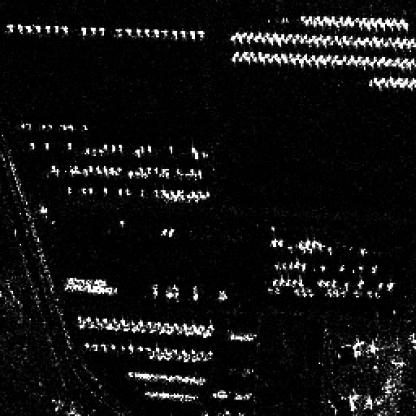airplane: (59, 122, 73, 130), (151, 283, 159, 297), (41, 120, 52, 130), (164, 289, 174, 299), (20, 120, 32, 128), (220, 289, 228, 301), (161, 27, 171, 36), (80, 167, 90, 176), (167, 228, 176, 237), (44, 22, 52, 32), (52, 22, 60, 32), (80, 24, 88, 34), (143, 26, 151, 36), (68, 164, 78, 172), (198, 150, 208, 158), (190, 291, 198, 301), (99, 343, 107, 353), (188, 30, 197, 38), (196, 27, 204, 36), (24, 24, 31, 34), (32, 25, 42, 32), (89, 24, 96, 34), (172, 28, 179, 38), (94, 164, 101, 174), (167, 143, 174, 153), (5, 23, 13, 31), (96, 26, 104, 34), (125, 26, 133, 34), (82, 122, 90, 130), (134, 148, 142, 156), (268, 239, 276, 247), (356, 278, 364, 286), (366, 288, 374, 296), (385, 280, 393, 288), (180, 27, 187, 36), (62, 22, 68, 32), (101, 164, 107, 174), (299, 260, 305, 270), (284, 276, 290, 286), (332, 288, 338, 298), (91, 343, 97, 353), (297, 57, 304, 65), (388, 60, 396, 67), (398, 81, 406, 88), (354, 34, 361, 42), (302, 18, 309, 26), (16, 23, 23, 31), (115, 26, 122, 34), (146, 144, 153, 152), (115, 164, 122, 172), (160, 228, 168, 235), (271, 262, 278, 270), (352, 289, 360, 296), (375, 280, 382, 288), (174, 288, 179, 299), (153, 27, 159, 36), (50, 162, 56, 171), (109, 141, 115, 150), (109, 166, 114, 176), (276, 237, 281, 247), (294, 50, 301, 57), (385, 55, 392, 62), (393, 55, 400, 62), (320, 37, 327, 44), (401, 37, 408, 44), (341, 281, 348, 288), (234, 49, 240, 57), (240, 49, 246, 57), (326, 54, 332, 62), (378, 76, 386, 82), (236, 34, 242, 42), (300, 31, 306, 39), (358, 38, 364, 46), (135, 26, 143, 32), (39, 205, 47, 211), (127, 169, 133, 177), (88, 164, 94, 172), (293, 260, 299, 268), (338, 264, 344, 272), (369, 265, 375, 273), (278, 276, 284, 284), (274, 286, 280, 294), (293, 288, 299, 296), (301, 288, 307, 296), (324, 280, 332, 286), (325, 288, 331, 296), (374, 290, 380, 298), (192, 150, 198, 158), (109, 343, 115, 351), (127, 344, 133, 352), (117, 141, 122, 150), (231, 56, 237, 63), (267, 55, 273, 62), (281, 57, 288, 63), (359, 58, 366, 64), (370, 56, 376, 63), (379, 55, 385, 62), (382, 60, 388, 67), (397, 60, 403, 67), (400, 55, 406, 62), (408, 55, 414, 62), (388, 76, 394, 83), (392, 81, 398, 88), (229, 33, 236, 39), (242, 36, 249, 42), (248, 29, 254, 36), (312, 37, 318, 44), (336, 37, 342, 44), (340, 34, 346, 41), (351, 37, 357, 44), (362, 34, 368, 41), (377, 34, 383, 41), (341, 20, 348, 26), (360, 16, 366, 23), (371, 21, 377, 28), (379, 21, 385, 28), (28, 141, 34, 148), (83, 146, 89, 153), (319, 263, 325, 270), (83, 341, 89, 348), (152, 346, 158, 353), (250, 54, 255, 62), (403, 76, 408, 84), (333, 32, 338, 40), (367, 38, 372, 46), (307, 14, 312, 22), (330, 14, 335, 22), (338, 13, 343, 21), (403, 21, 408, 29), (65, 186, 70, 194), (91, 146, 96, 154), (138, 144, 143, 152), (117, 187, 122, 195), (125, 187, 130, 195), (307, 288, 312, 296), (330, 278, 335, 286), (340, 288, 344, 298), (258, 54, 264, 60), (275, 57, 281, 63), (309, 54, 315, 60), (317, 54, 323, 60), (336, 57, 342, 63), (340, 54, 346, 60), (344, 57, 350, 63), (397, 76, 403, 82), (252, 36, 258, 42), (273, 36, 279, 42), (278, 33, 284, 39), (282, 36, 288, 42), (286, 32, 292, 38), (293, 31, 299, 37), (310, 32, 316, 38), (317, 33, 323, 39), (343, 39, 349, 45), (397, 41, 403, 47), (404, 41, 410, 47), (310, 20, 316, 26), (322, 15, 328, 21), (326, 20, 332, 26), (345, 15, 351, 21), (80, 187, 86, 193), (267, 288, 273, 294), (317, 280, 323, 286), (189, 145, 195, 151), (271, 52, 278, 57), (291, 56, 296, 63), (408, 81, 413, 88), (232, 29, 239, 34), (255, 29, 260, 36), (263, 29, 268, 36), (354, 16, 359, 23), (369, 16, 374, 23), (398, 18, 405, 23), (44, 141, 49, 148), (65, 141, 70, 148), (102, 141, 107, 148), (146, 346, 151, 353), (306, 57, 310, 65), (322, 58, 326, 66), (358, 20, 362, 28), (298, 278, 302, 286), (244, 54, 249, 60), (302, 52, 307, 58), (312, 59, 317, 65), (333, 54, 338, 60), (330, 59, 335, 65), (362, 55, 368, 60), (374, 60, 380, 65), (367, 80, 372, 86), (372, 76, 377, 82), (266, 35, 272, 40), (304, 38, 310, 43), (374, 39, 380, 44), (386, 35, 392, 40), (390, 40, 395, 46), (299, 14, 304, 20), (315, 15, 320, 21), (388, 21, 394, 26), (102, 187, 107, 193), (291, 278, 296, 284), (136, 345, 141, 351), (288, 50, 292, 57), (406, 62, 413, 66), (372, 34, 376, 41), (410, 37, 414, 44), (265, 52, 270, 57), (356, 55, 361, 60), (367, 60, 372, 65), (325, 34, 330, 39), (328, 39, 333, 44), (395, 35, 400, 40), (377, 16, 382, 21), (385, 16, 390, 21), (395, 21, 400, 26), (248, 49, 252, 55), (348, 54, 352, 60), (352, 59, 356, 65), (376, 80, 380, 86), (272, 31, 276, 37), (384, 39, 388, 45), (318, 20, 324, 24), (350, 20, 354, 26), (98, 148, 102, 154), (88, 187, 92, 193), (280, 262, 286, 266), (288, 260, 292, 266), (272, 278, 276, 284), (257, 50, 260, 57), (291, 37, 294, 44), (280, 52, 284, 57), (385, 80, 390, 84), (240, 31, 244, 36), (298, 38, 302, 43), (348, 34, 352, 39), (392, 18, 396, 23), (237, 54, 240, 60), (260, 36, 263, 42), (335, 20, 338, 26), (366, 21, 368, 28)
